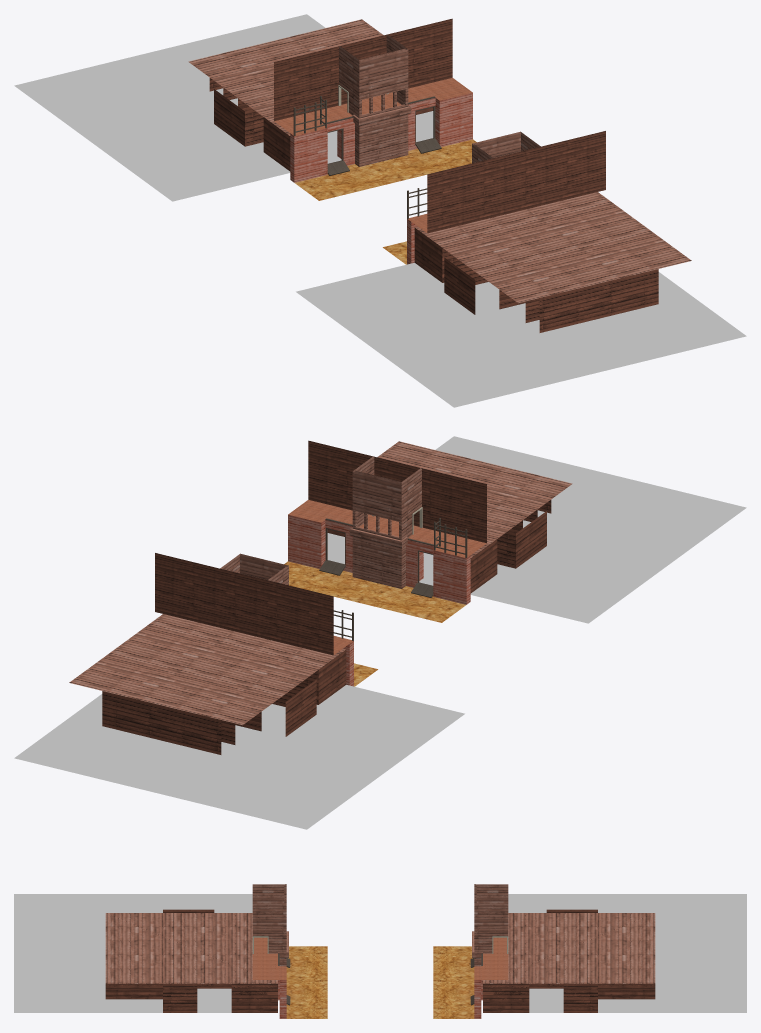
File: Fachada.obj
3 views of the same model, one above another, from view 1: azimuth 30°, elevation 25°; view 2: azimuth 150°, elevation 25°; view 3: azimuth 270°, elevation 25° (orthographic). The views are drawn at different scales.
Visible parts, largest first — view 1: Fachada; view 2: Fachada; view 3: Fachada.
Boxes of the visible parts, x1,y1,x2,y2 form: Fachada: (14,14,746,407); Fachada: (14,436,746,829); Fachada: (14,884,746,1018).
Bounding box in the file's own units: 24.8 × 8.51 × 64.
